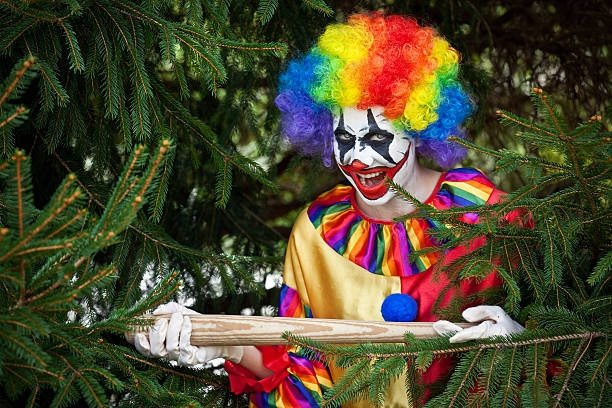bita: (140, 316, 500, 345)
